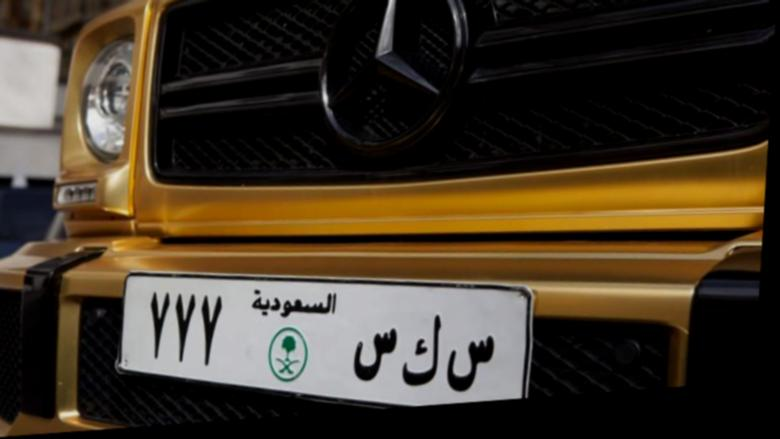License_Plate: (108, 233, 547, 429)
